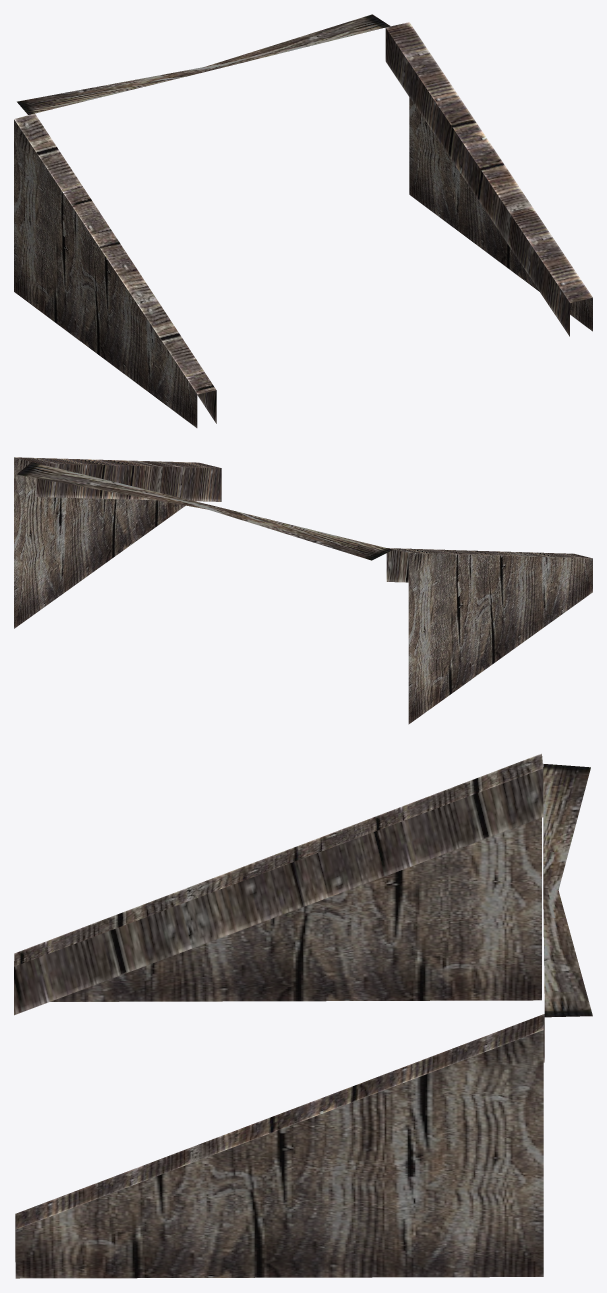
Rendered from tizi11.obj.
3 renders of one model, top to bottom at view 1: azimuth 30°, elevation 25°; view 2: azimuth 150°, elevation 25°; view 3: azimuth 270°, elevation 25°, orthographic. The views are drawn at different scales.
Visible parts, largest first — view 1: tizi11; view 2: tizi11; view 3: tizi11.
Part boxes in pixels (<box>): tizi11: <box>14,14,592,427</box>; tizi11: <box>14,457,592,724</box>; tizi11: <box>14,753,592,1278</box>.
Bounding box in the file's own units: 100 × 42.06 × 88.51.
